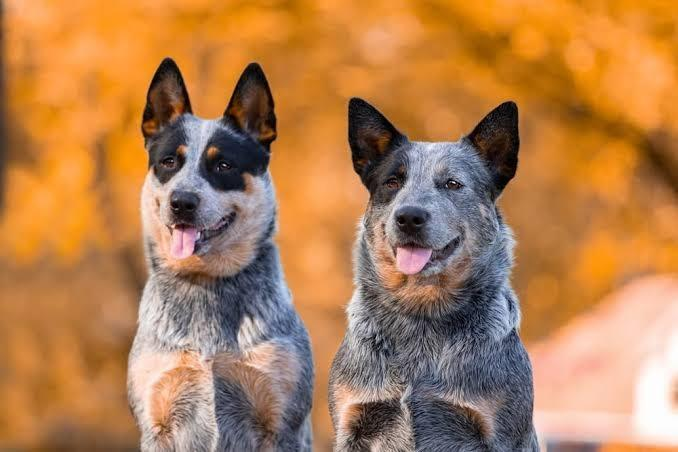adult_dog: (328, 99, 540, 452), (127, 58, 315, 452)
